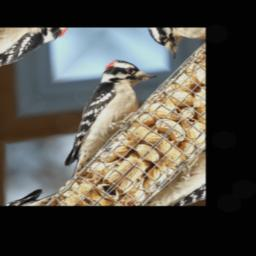Woodpecker: (25, 51, 171, 180)
